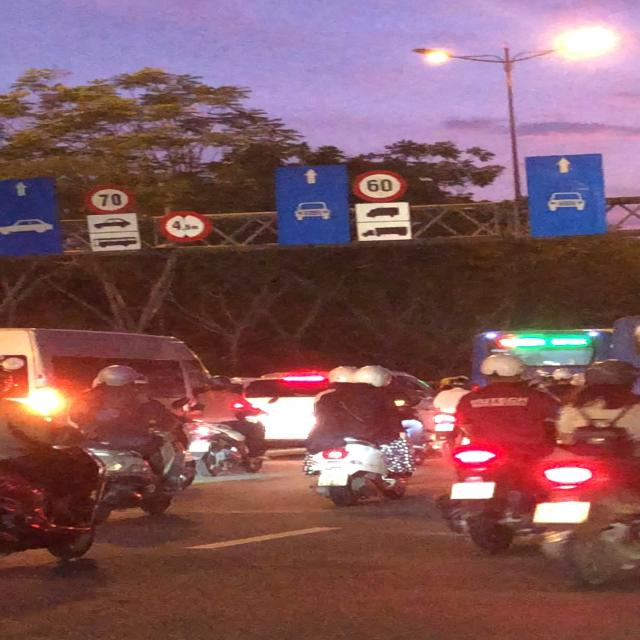Bien bao han che chieu cao: (157, 208, 216, 245)
Bien bao toc do toi da cho phep: (342, 164, 414, 202), (80, 183, 144, 216)
